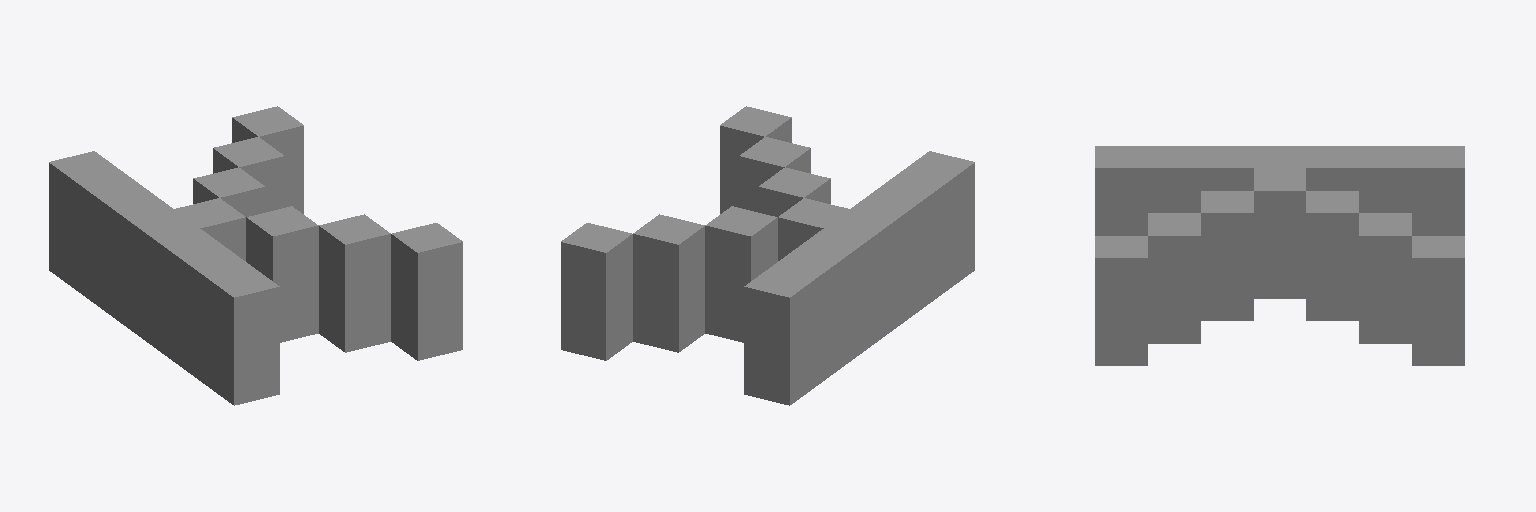
The picture shows the model from 3 angles: view 1: azimuth 30°, elevation 25°; view 2: azimuth 150°, elevation 25°; view 3: azimuth 270°, elevation 25°; orthographic projection.
Visible parts, largest first — view 1: K_CUABC.011; view 2: K_CUABC.011; view 3: K_CUABC.011.
Part boxes in pixels (x1,y1,x2,y2): K_CUABC.011: (49, 106, 462, 405); K_CUABC.011: (561, 106, 974, 405); K_CUABC.011: (1095, 146, 1464, 365).
Size of the model in its own units: 0.5556 by 0.25 by 0.7778.